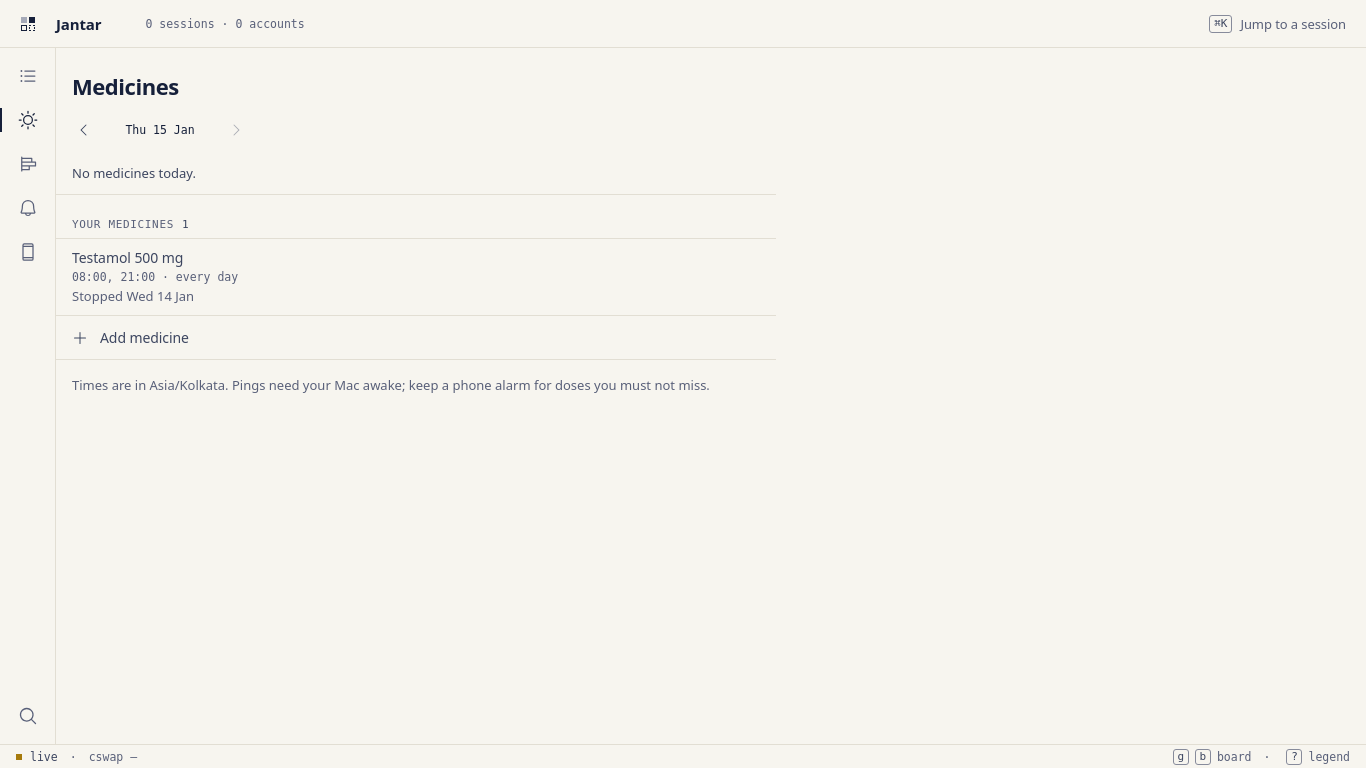
Scenario: MedSheet › a stopped medicine offers Delete only
This screenshot has width=1366, height=768.
Click the button "Testamol 500 mg 08:00, 21:00 · every day Stopped Wed 14 Jan".
click(101, 258)  # box [56, 239, 776, 315]
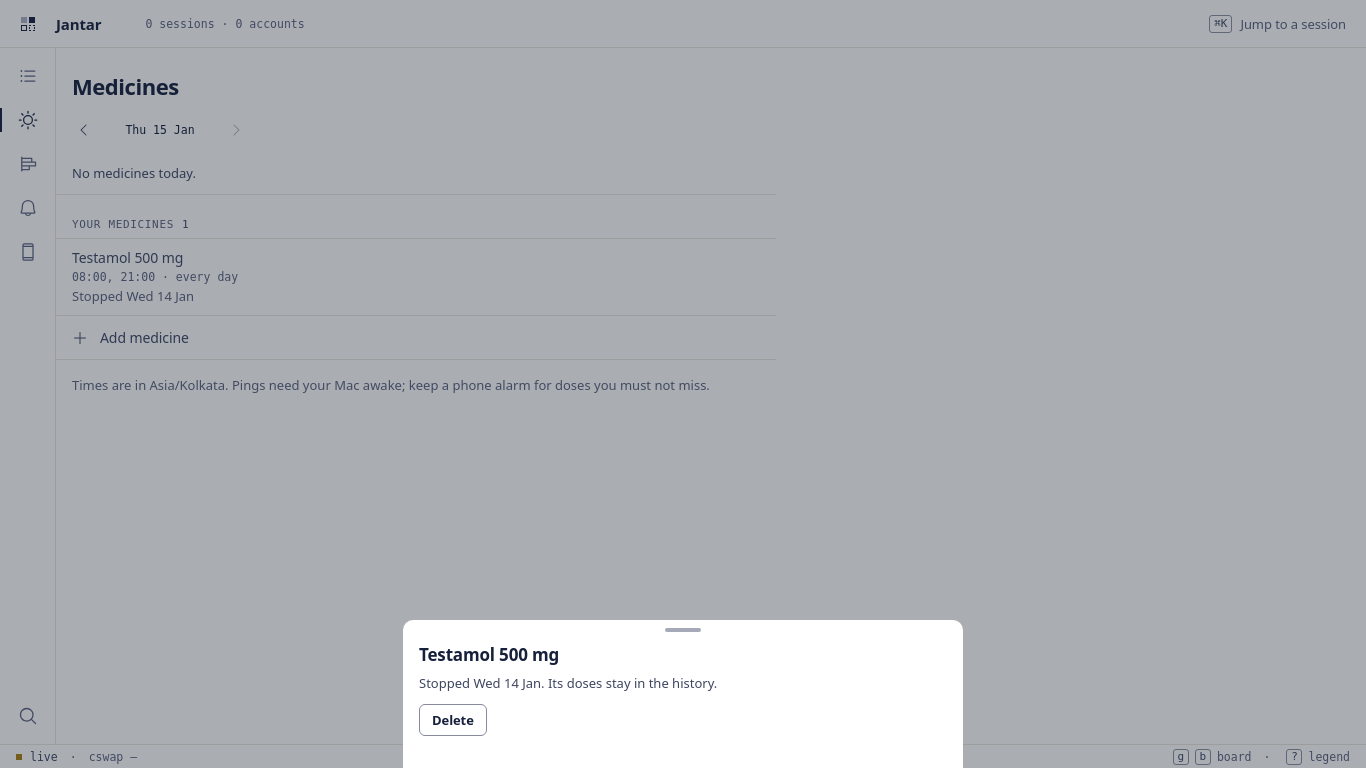
expect the dialog shows "Stopped Wed 14 Jan": met, box [403, 620, 963, 767]
expect the button "Delete" is shown: met, box [419, 704, 487, 736]
